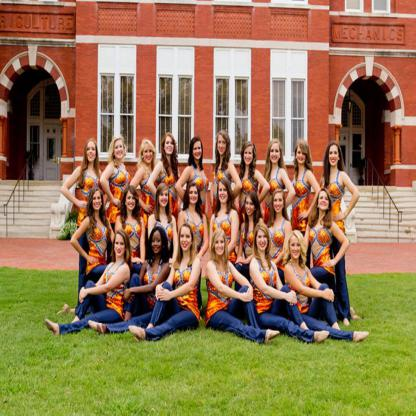face: (180, 227, 192, 253), (290, 235, 302, 261), (152, 230, 163, 256), (115, 234, 126, 258), (257, 230, 268, 253), (215, 234, 226, 257), (319, 191, 330, 212), (330, 144, 340, 167), (114, 140, 125, 160), (159, 187, 169, 209), (92, 190, 102, 212), (219, 183, 229, 205), (270, 143, 280, 165), (144, 144, 154, 165), (297, 144, 307, 165), (274, 193, 284, 214), (245, 195, 255, 216), (244, 145, 254, 166), (193, 141, 203, 161), (127, 191, 137, 211), (189, 186, 199, 205), (218, 134, 227, 155), (166, 135, 175, 155), (88, 143, 96, 162)
